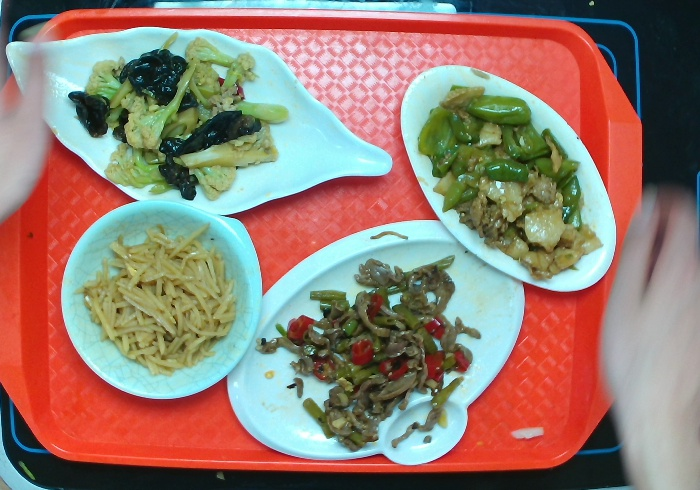RJxy-Bai_Se_Tuo_Yuan: (389, 60, 622, 301)
RJxy-Shu_Ye_Pan: (4, 23, 393, 216)
RJxy-Xiao_Jiao_Yuan_Wan: (63, 195, 268, 411)
RJxy-Zhan_Liao_Pan: (222, 216, 530, 474)
